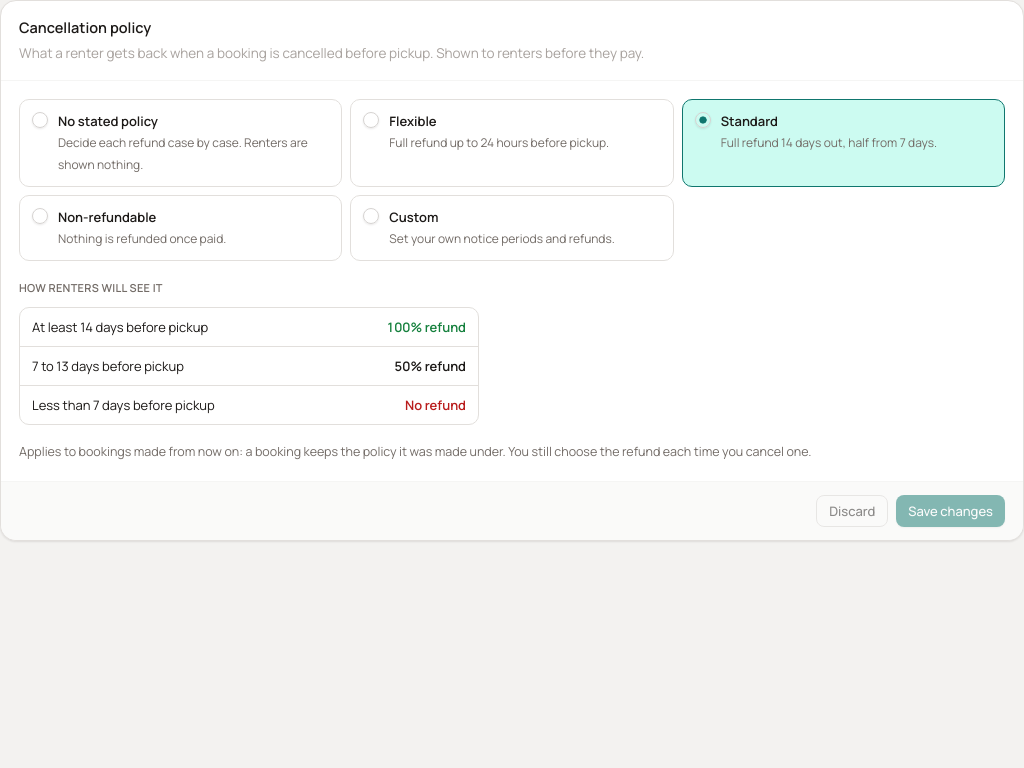
Test case: CancellationPolicyCard › keeps edited tiers while a ready-made schedule is looked at
Click the radio button named "Custom" next to "Custom" at (371, 216), box [363,208,379,224]
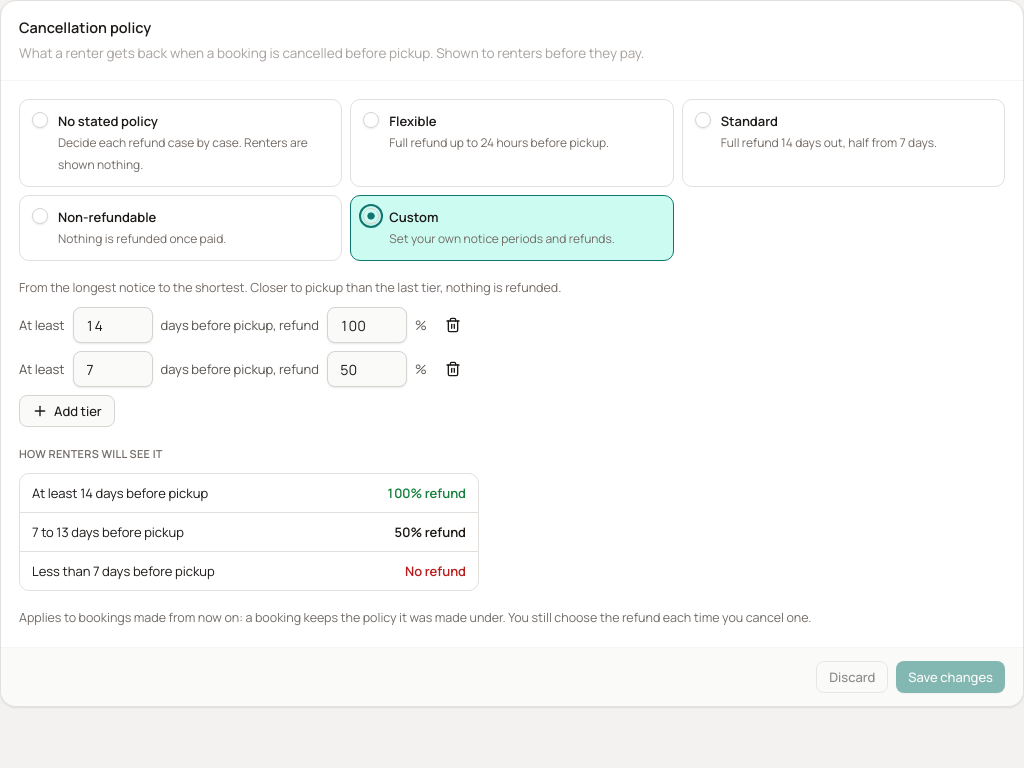
Replace the text in the number field named "Tier 2: refund percent" with "25" at (367, 369), box [327,351,407,387]
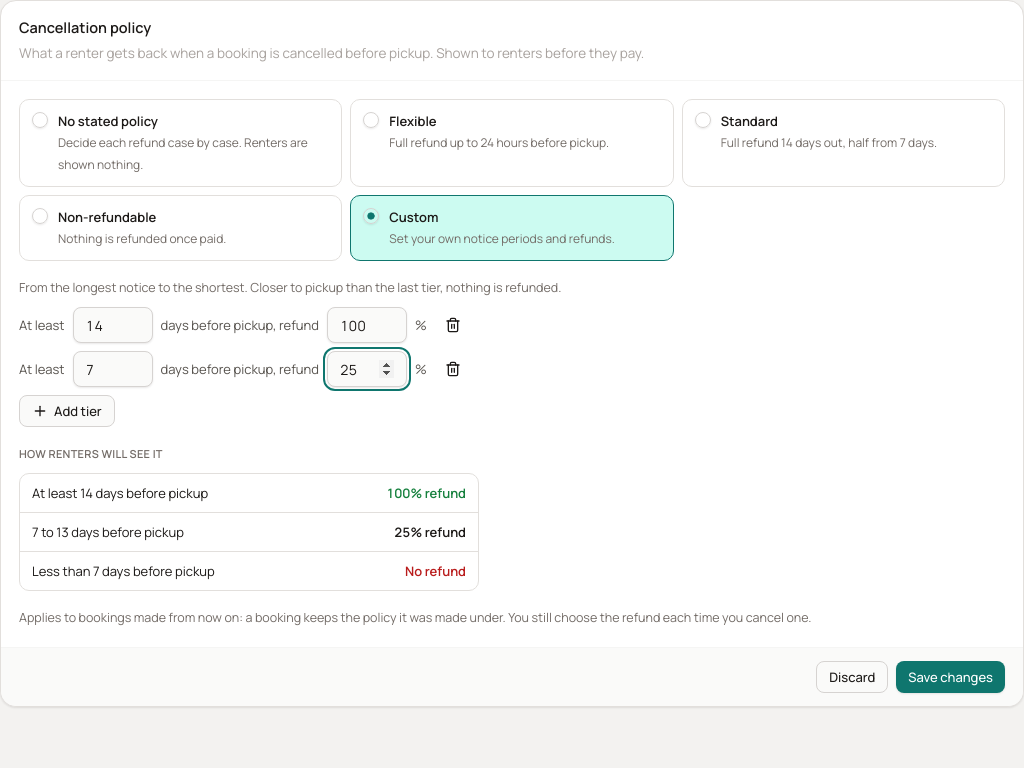
Click the radio button named "Flexible" next to "Flexible" at (371, 120), box [363,112,379,128]
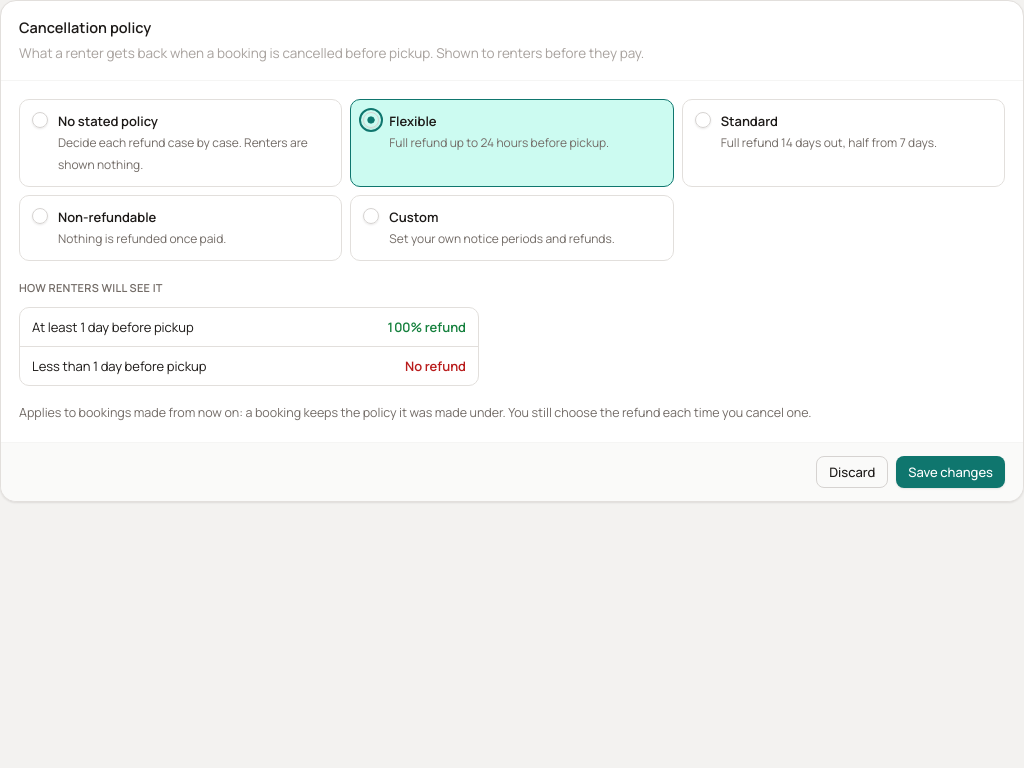
Click the radio button named "Custom" next to "Custom" at (371, 216), box [363,208,379,224]
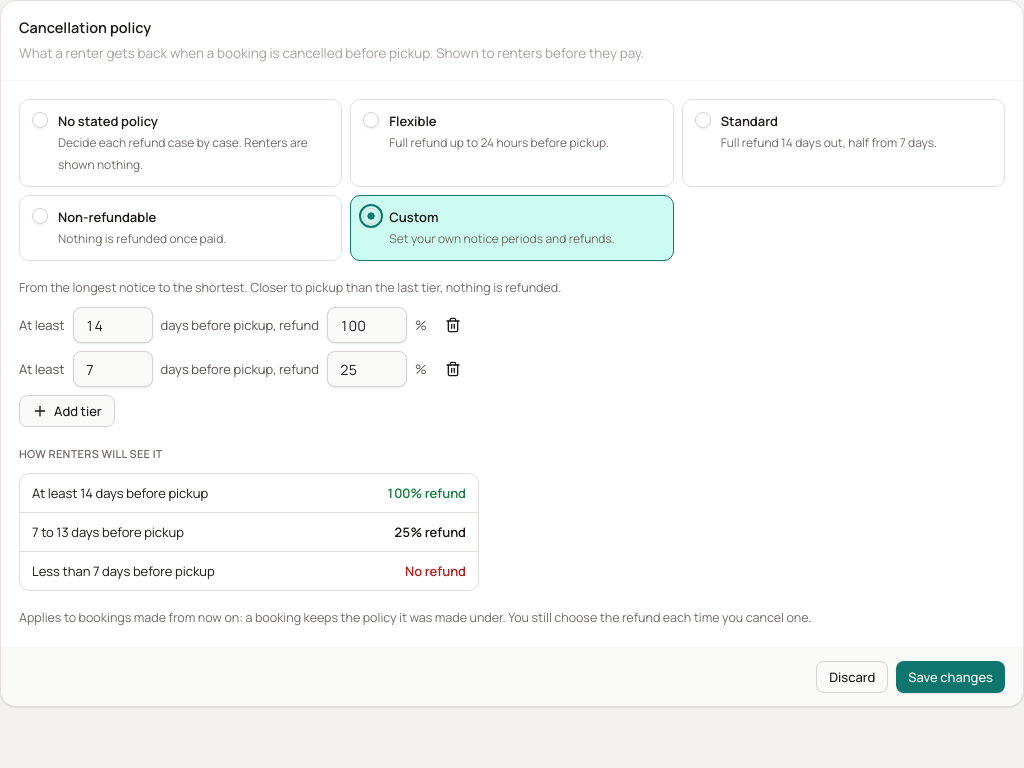
Expected: the number field named "Tier 2: refund percent" holds "25", [327,351,407,387]
Expected: the number field named "Tier 1: days before pickup" holds "14", [72,307,152,343]
